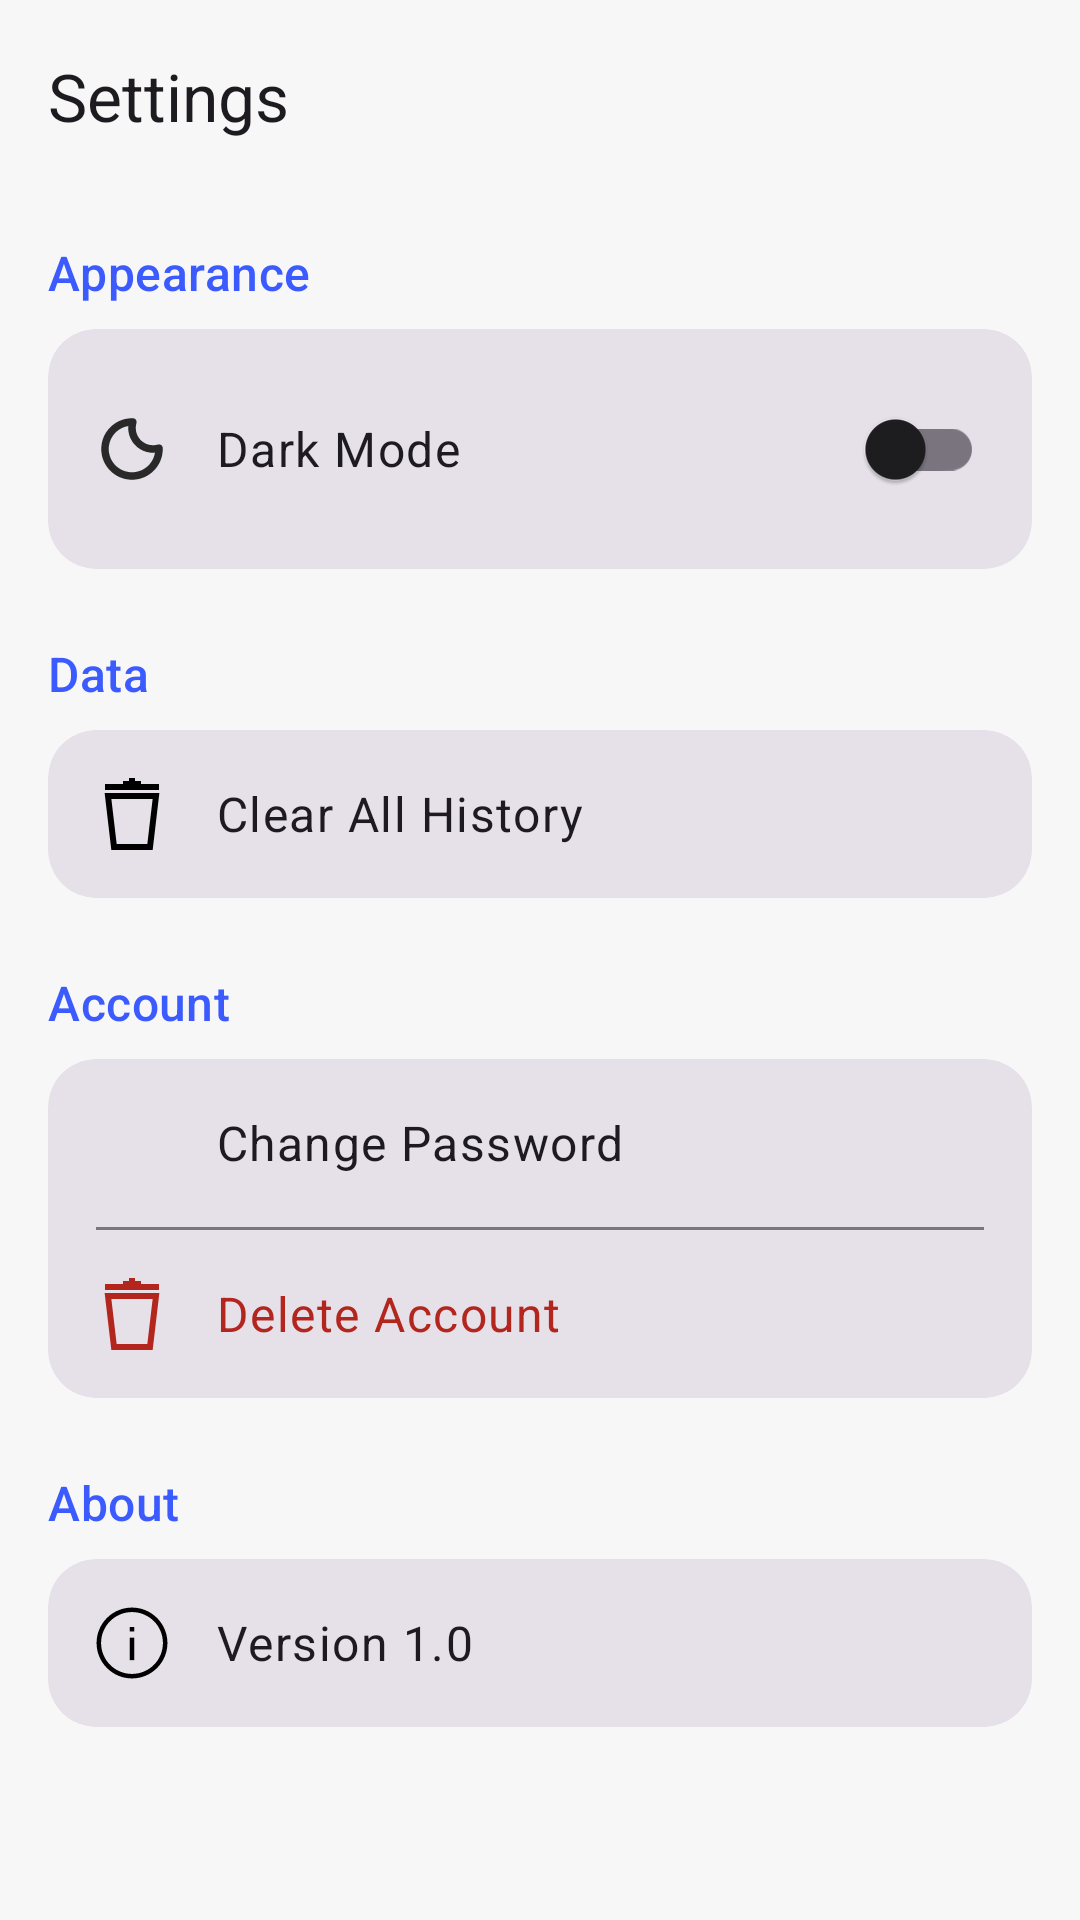

Icons on this 1080 x 1920 Android screen, each with the point to tap as (x,y):
App version: (132,1643)
